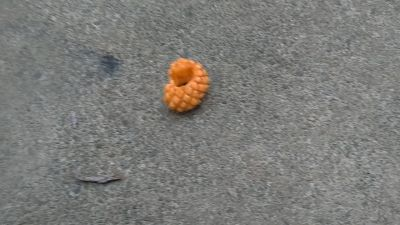eggs: (162, 56, 212, 115)
